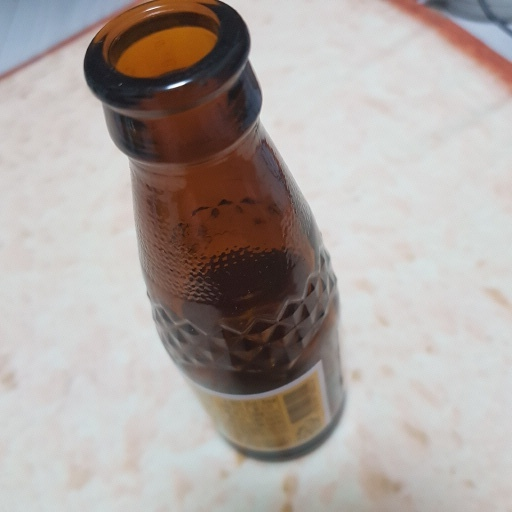Glass_3: (80, 1, 348, 457)
